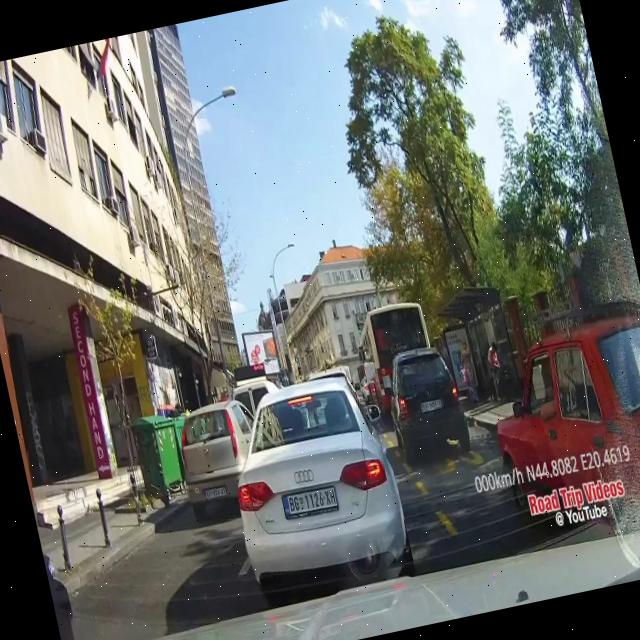License-plate: (279, 481, 340, 522), (202, 482, 228, 502), (420, 397, 443, 414)
